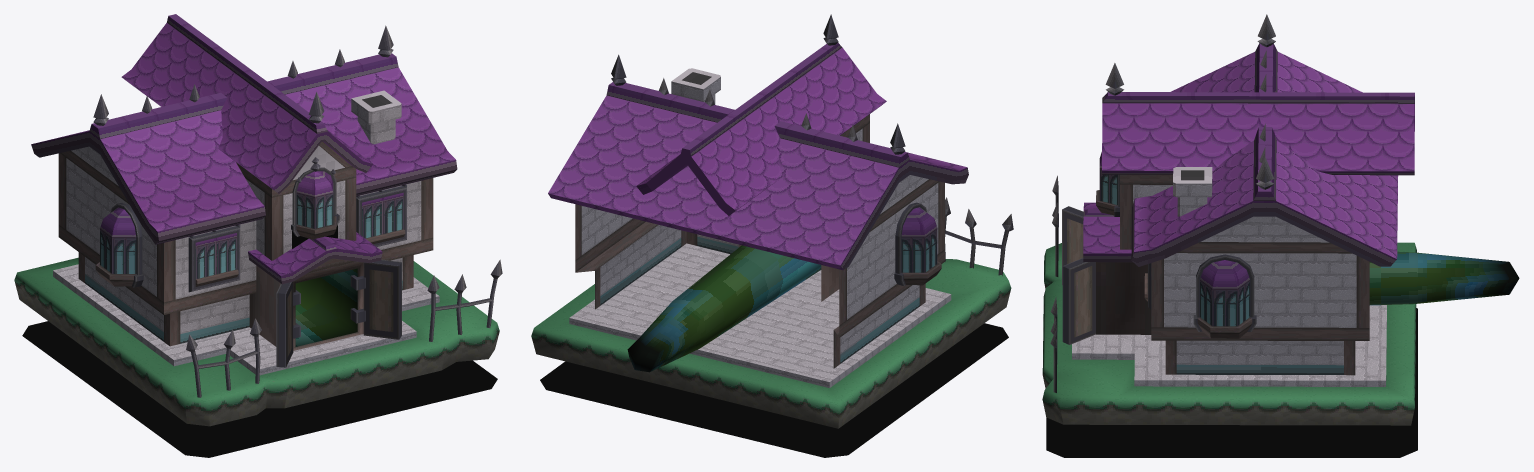
Rendered from ghost_house_course.glb.
3 views of the same model, side by side, from view 1: azimuth 30°, elevation 25°; view 2: azimuth 150°, elevation 25°; view 3: azimuth 270°, elevation 25° (orthographic). The views are drawn at different scales.
Visible parts, largest first — view 1: Object_11, Object_10, Object_9, Object_17, Object_5, Object_14, Object_13, Object_8, Object_12, Object_6, Object_3, Object_7; view 2: Object_11, Object_9, Object_17, Object_10, Object_14, Object_12, Object_13, Object_5, Object_8; view 3: Object_11, Object_9, Object_10, Object_5, Object_17, Object_14, Object_13, Object_12, Object_8, Object_6, Object_3, Object_4 (+1 smaller).
Part boxes in pixels (box(x1,y1,x2,y2)): Object_11: box(40, 23, 455, 275); Object_10: box(31, 14, 457, 343); Object_9: box(53, 90, 439, 375); Object_17: box(22, 321, 497, 457); Object_5: box(58, 142, 433, 350); Object_14: box(14, 272, 499, 426); Object_13: box(17, 257, 496, 400); Object_8: box(93, 25, 502, 397); Object_12: box(295, 268, 357, 346); Object_6: box(363, 259, 401, 339); Object_3: box(369, 269, 393, 331); Object_7: box(276, 281, 293, 367); Object_11: box(548, 47, 966, 270); Object_9: box(569, 68, 951, 387); Object_17: box(540, 323, 1008, 457); Object_10: box(600, 43, 968, 363); Object_14: box(531, 280, 1011, 428); Object_12: box(627, 245, 821, 372); Object_13: box(534, 259, 1008, 402); Object_5: box(575, 114, 944, 368); Object_8: box(611, 14, 1013, 286); Object_11: box(1083, 52, 1414, 258); Object_9: box(1072, 167, 1386, 386); Object_10: box(1083, 43, 1414, 374); Object_5: box(1096, 174, 1369, 375); Object_17: box(1046, 308, 1417, 457); Object_14: box(1042, 243, 1416, 425); Object_13: box(1045, 242, 1414, 398); Object_12: box(1369, 251, 1519, 305); Object_8: box(1050, 14, 1275, 392); Object_6: box(1062, 258, 1095, 344); Object_3: box(1074, 266, 1092, 337); Object_4: box(1067, 218, 1083, 264).
Size of what is drawn, in the model's own units: 570 by 525 by 715.
16 materials, 14 textured.
